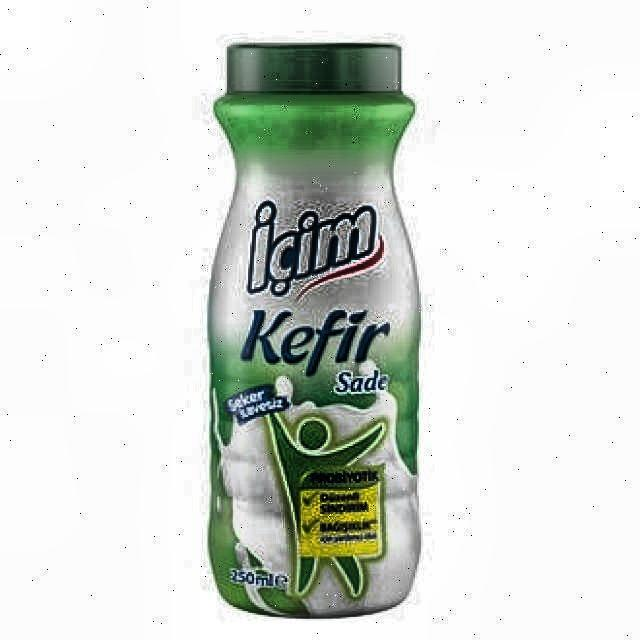plastic: (205, 42, 424, 622)
